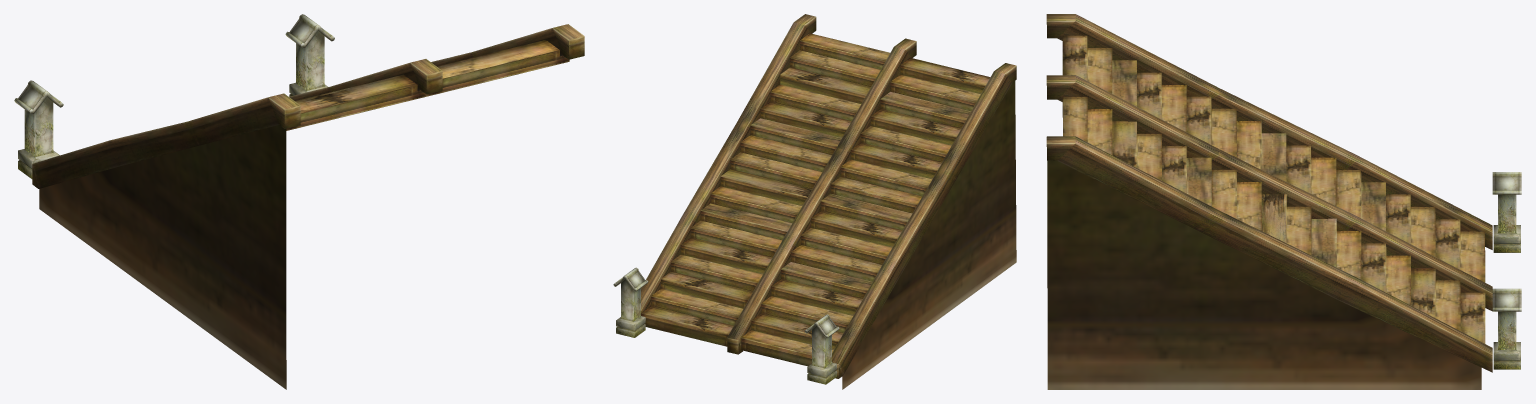
File: a_SWCstair01.glb
3 views of the same model, side by side, from view 1: azimuth 30°, elevation 25°; view 2: azimuth 150°, elevation 25°; view 3: azimuth 270°, elevation 25° (orthographic). The views are drawn at different scales.
Parts seen in each view (by area): view 1: a_SWCstair01; view 2: a_SWCstair01; view 3: a_SWCstair01.
Part boxes in pixels (x1,y1,x2,y2): a_SWCstair01: (14,14,584,389); a_SWCstair01: (613,14,1016,389); a_SWCstair01: (1046,14,1521,389).
Size of the model in its own units: 4.07 by 3.57 by 6.24.
Materials: 3 (3 with a texture image).
